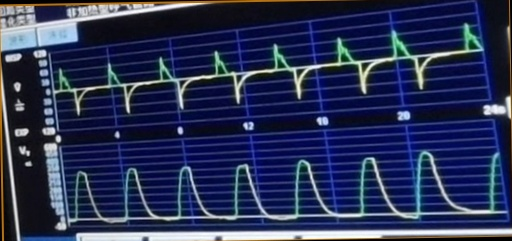Accumulation Flow: (56, 25, 482, 117)
Volume: (69, 149, 501, 225)
